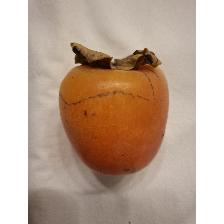Kaki: (54, 37, 172, 180)
